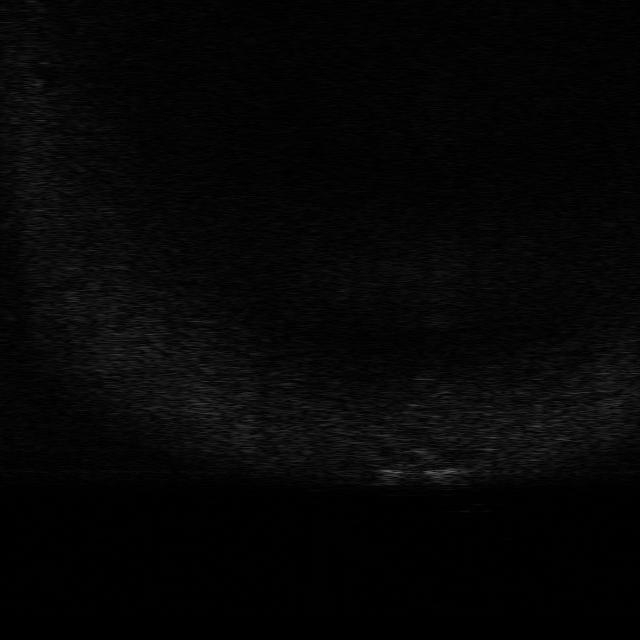plane: (372, 448, 473, 488)
